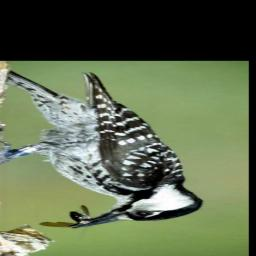Woodpecker: (6, 68, 205, 229)
